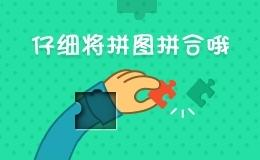target: (54, 73, 95, 111)
